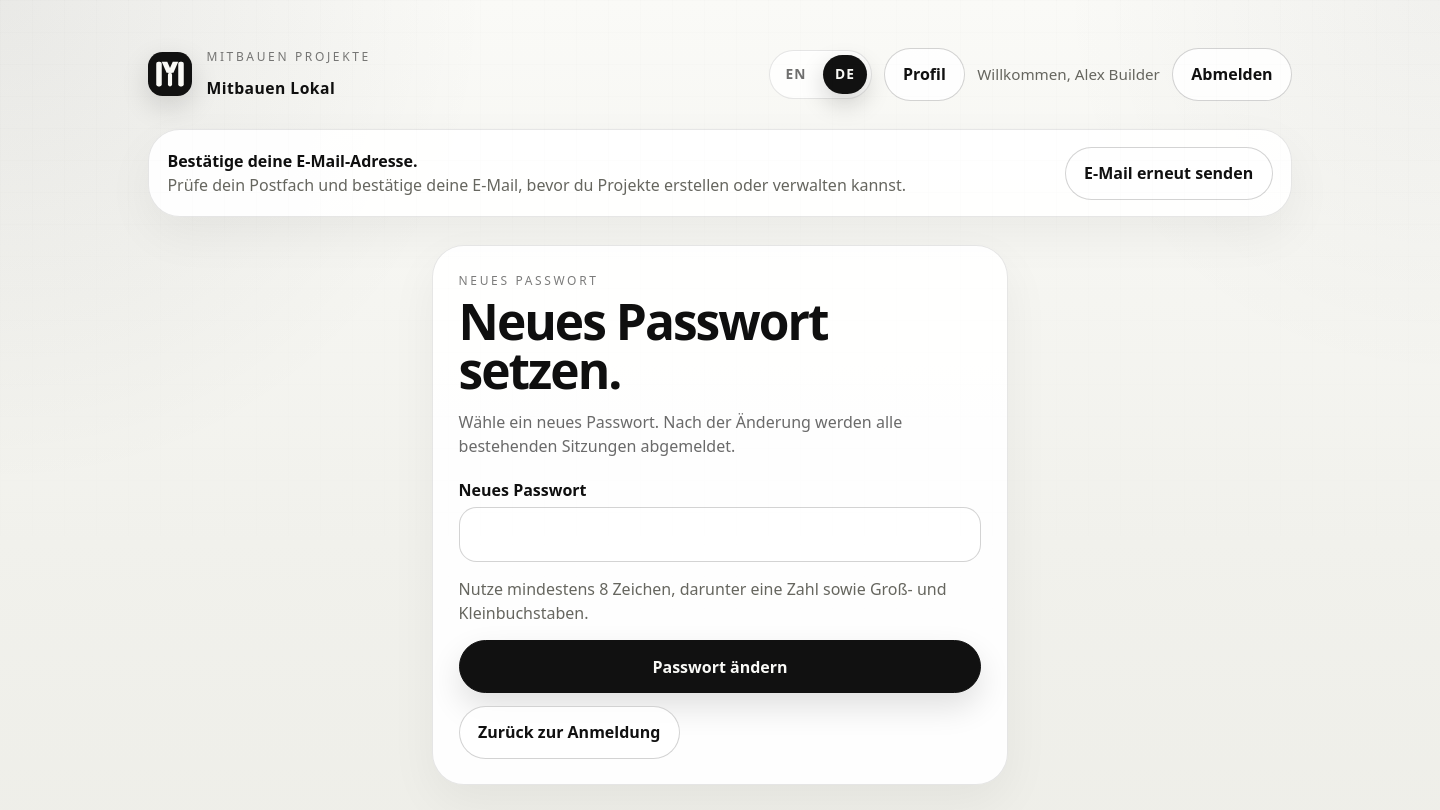
Test: clears stale unverified session state after password reset
Type "NewSecure1" into the password field labelled "Neues Passwort" at (720,534), box [459, 507, 981, 562]
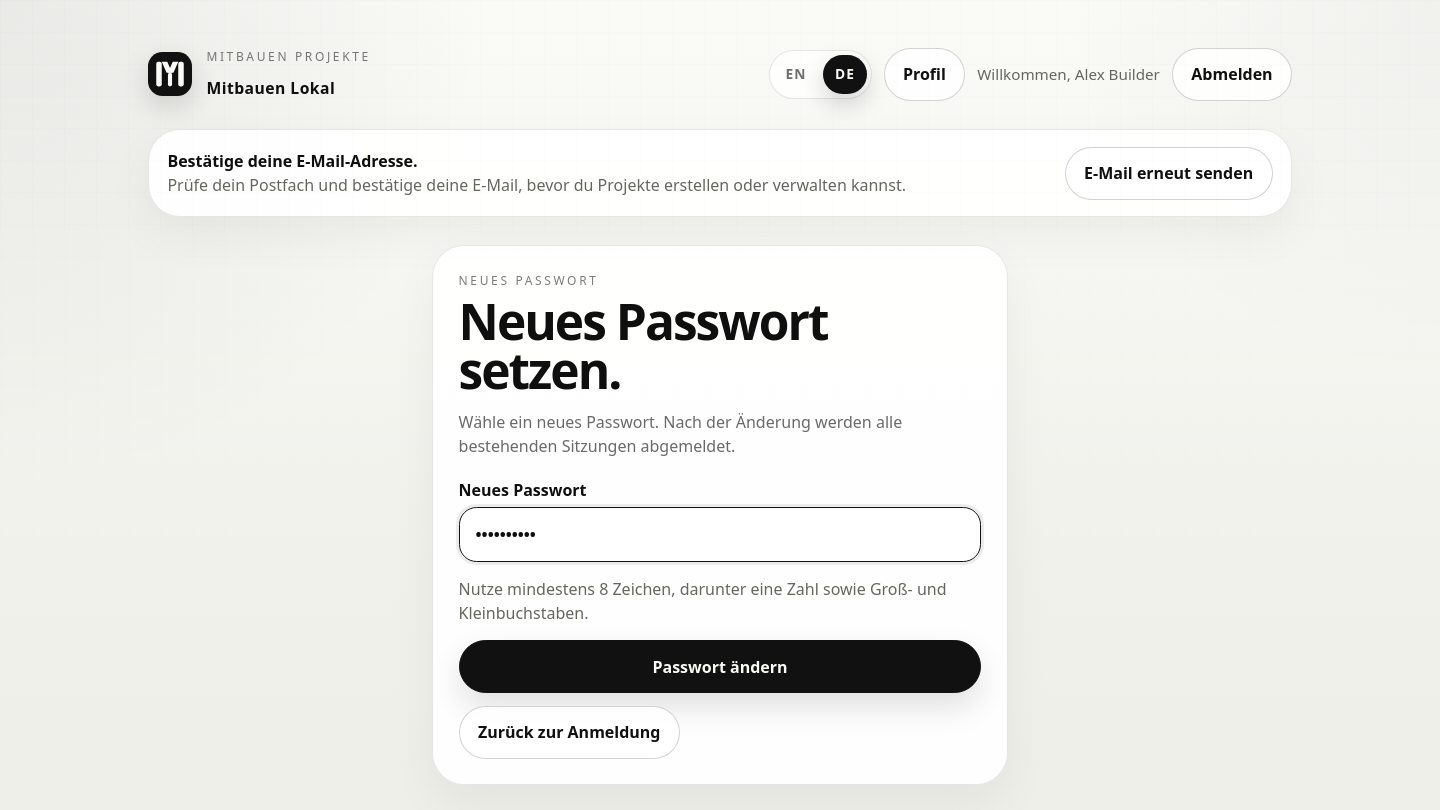
Click the button "Passwort ändern" at (720,667), box [459, 640, 981, 693]
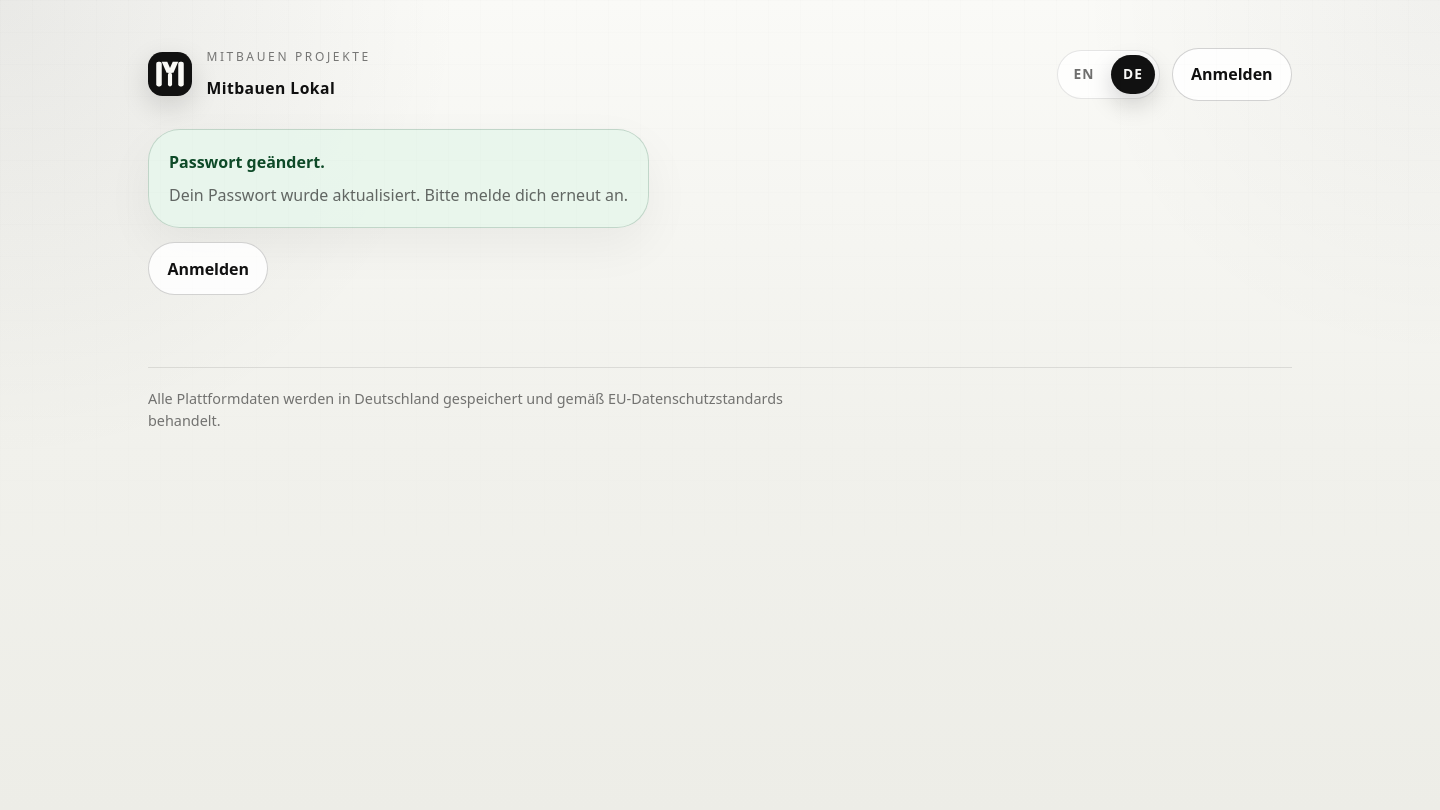
Now the text "Bestätige deine E-Mail-Adresse." is gone
